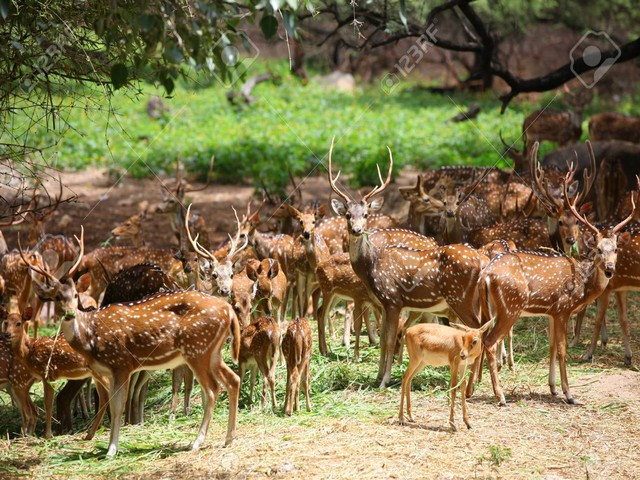deer: (27, 243, 245, 450), (493, 223, 621, 401), (329, 145, 400, 385), (395, 316, 496, 428), (527, 160, 640, 229), (2, 312, 53, 438), (154, 174, 211, 242), (289, 203, 327, 303), (282, 316, 314, 419), (248, 314, 280, 414), (225, 204, 291, 249), (100, 200, 154, 243), (402, 172, 440, 233), (250, 259, 282, 308), (439, 189, 466, 241), (501, 169, 526, 216)
